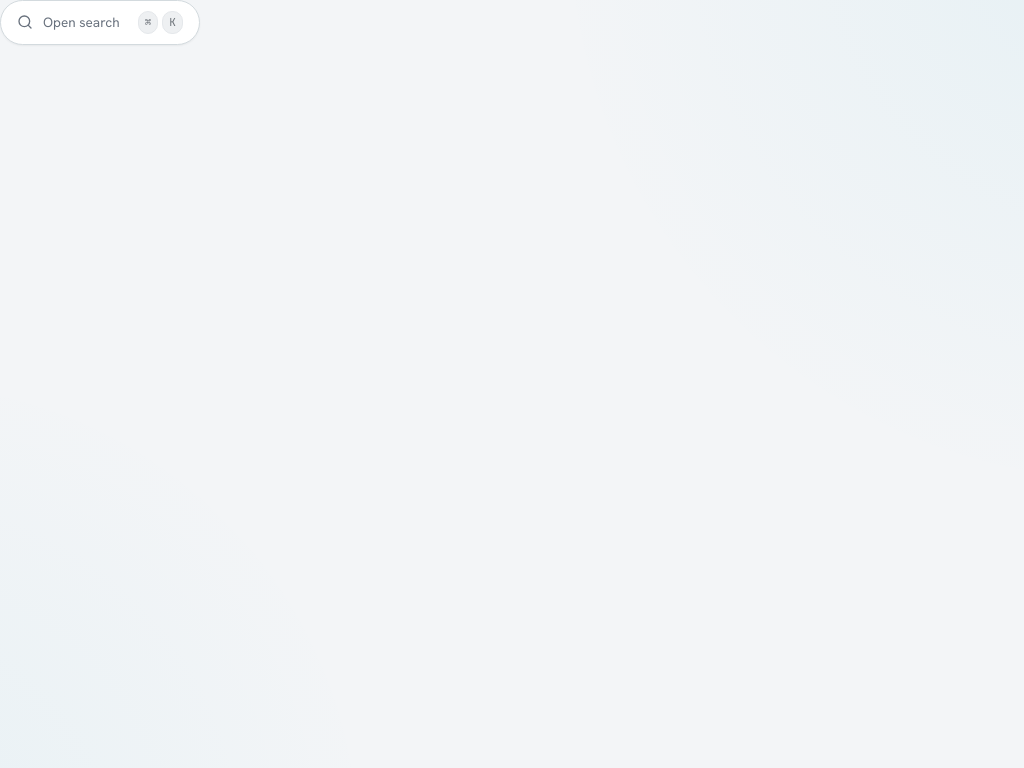
Scenario: CommandPalette recent searches (#231) › remembers a query once a result is selected and shows it on reopen
Click the button "Open search ⌘ K".
click(100, 22)  # box [0, 0, 200, 44]
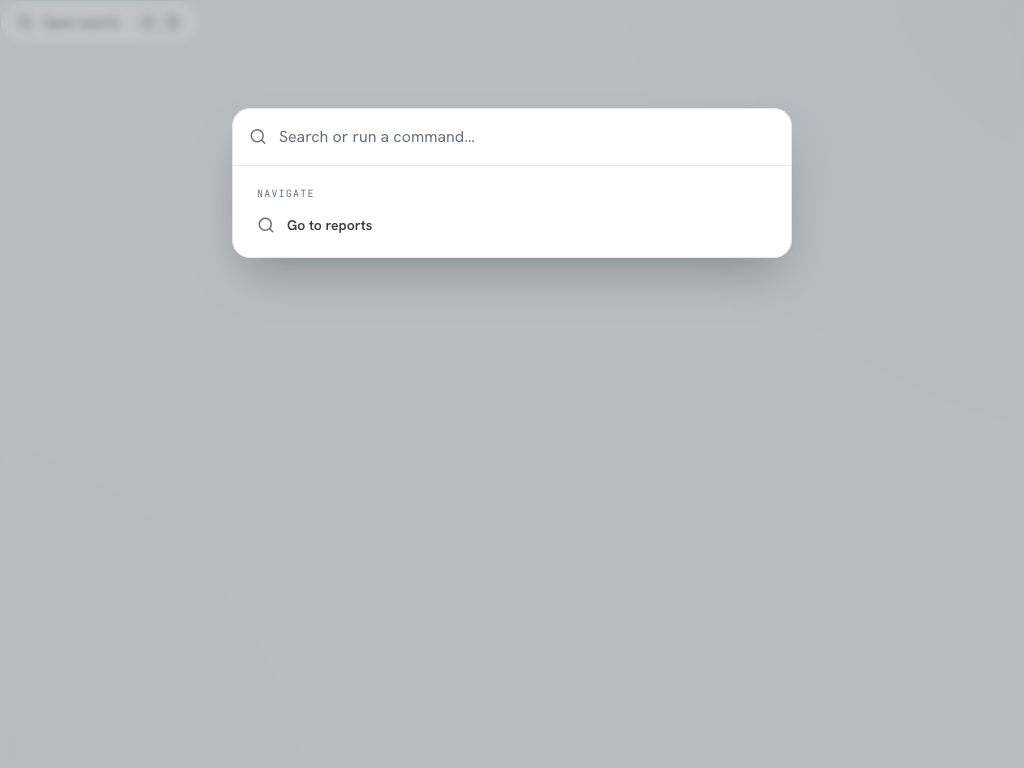
Type "widget" into the dropdown.
click(527, 136); type("widget")  # box [279, 124, 775, 148]
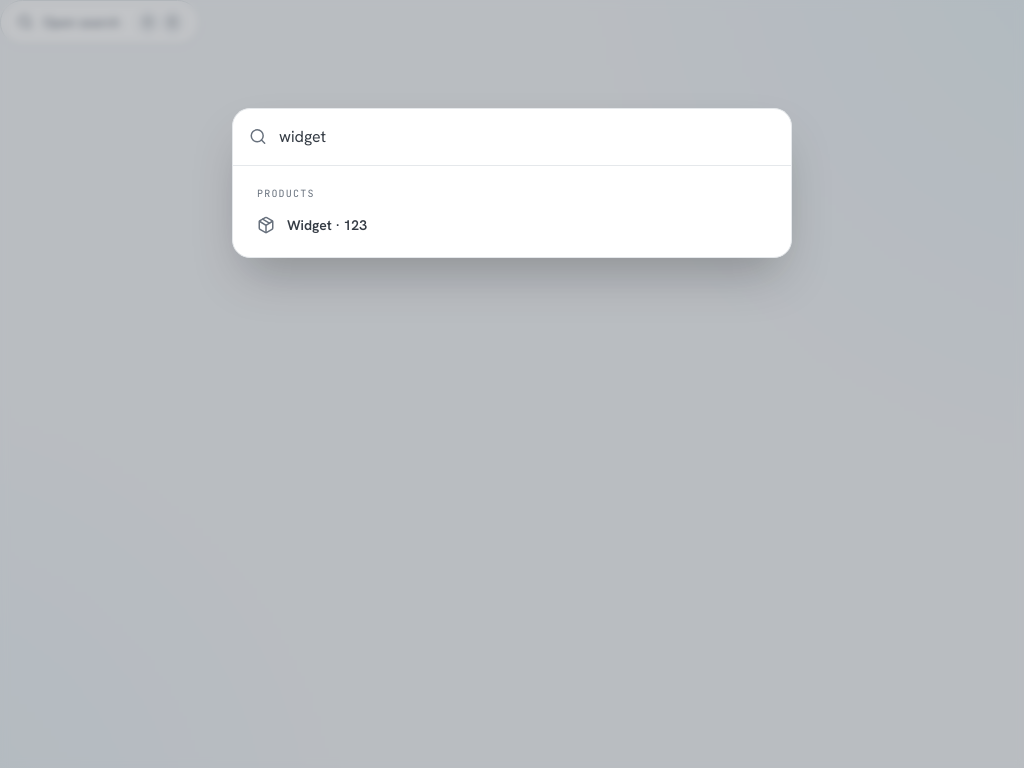
Click the option "Widget · 123".
click(327, 225)  # box [245, 204, 779, 244]
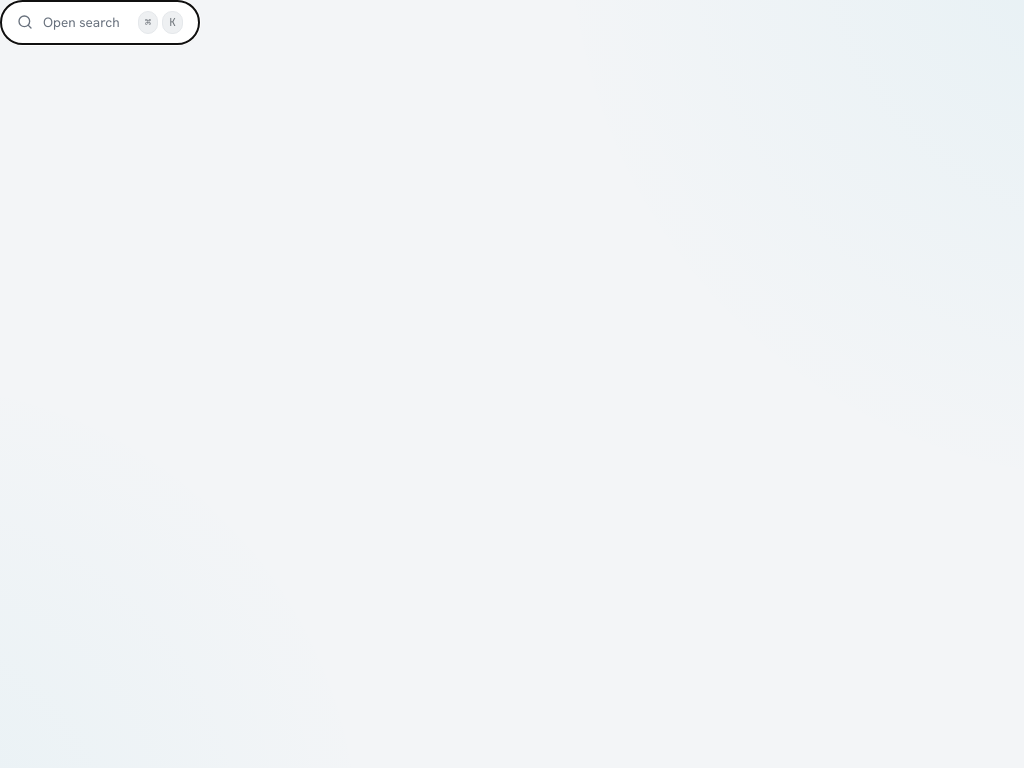
Expected: the dialog is gone
Click the button "Open search ⌘ K".
click(100, 22)  # box [0, 0, 200, 44]
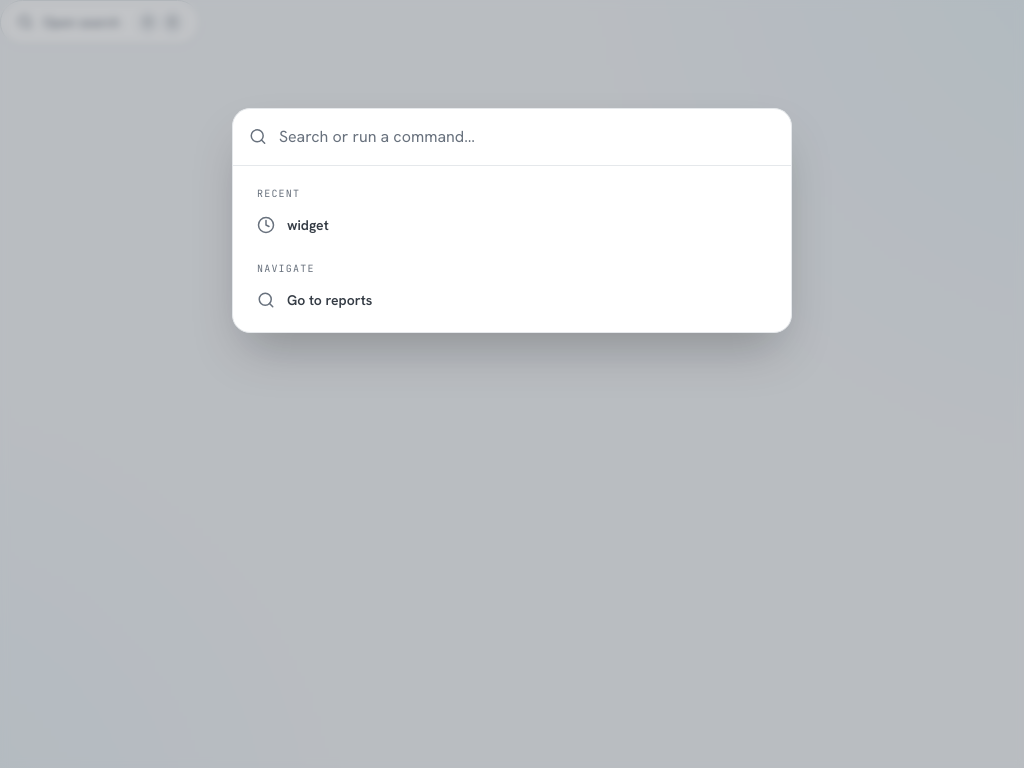
Expected: the text "Recent" is shown, [257, 186, 300, 200]
Expected: the option "widget" is shown, [245, 204, 779, 244]
